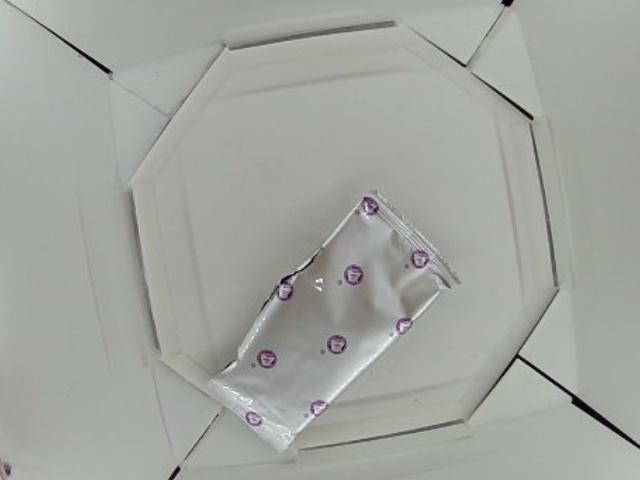Medicine: (205, 188, 460, 471)
